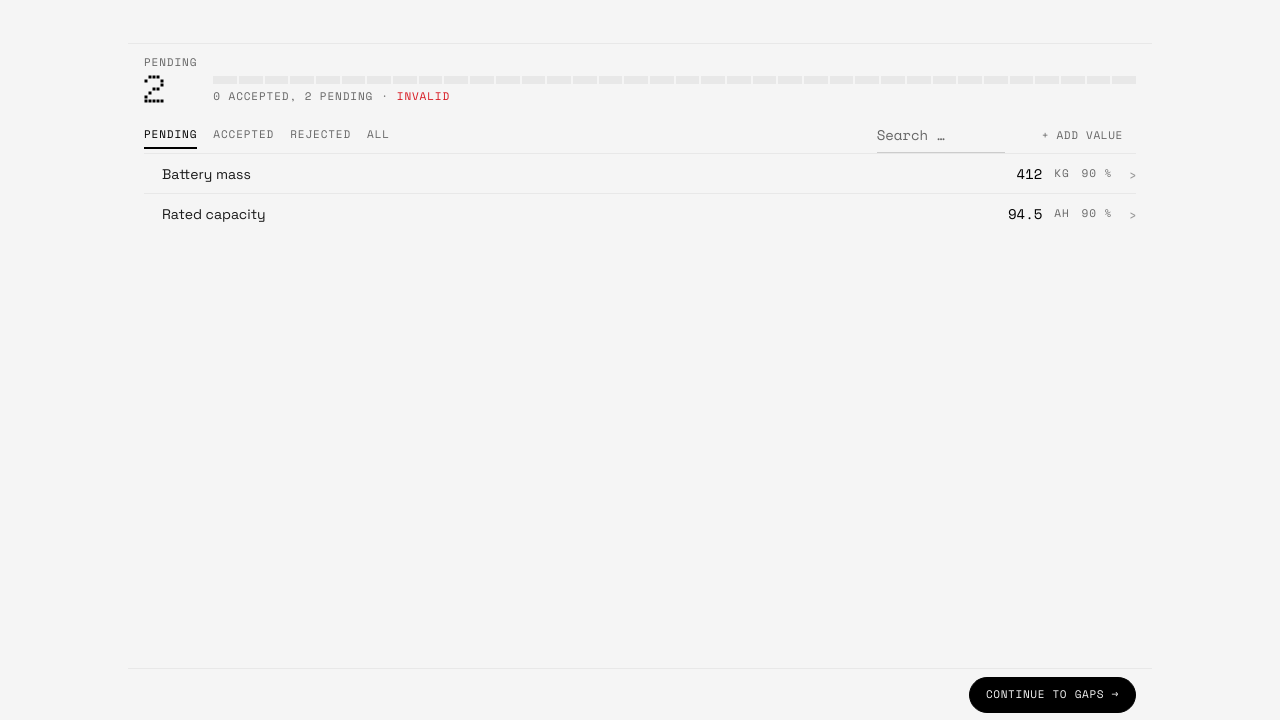
it: ReviewView › resets candidate edits when another attribute uses the same fact
Click the button with test id "group" at coordinates (206, 174), box [144,153,1136,193]
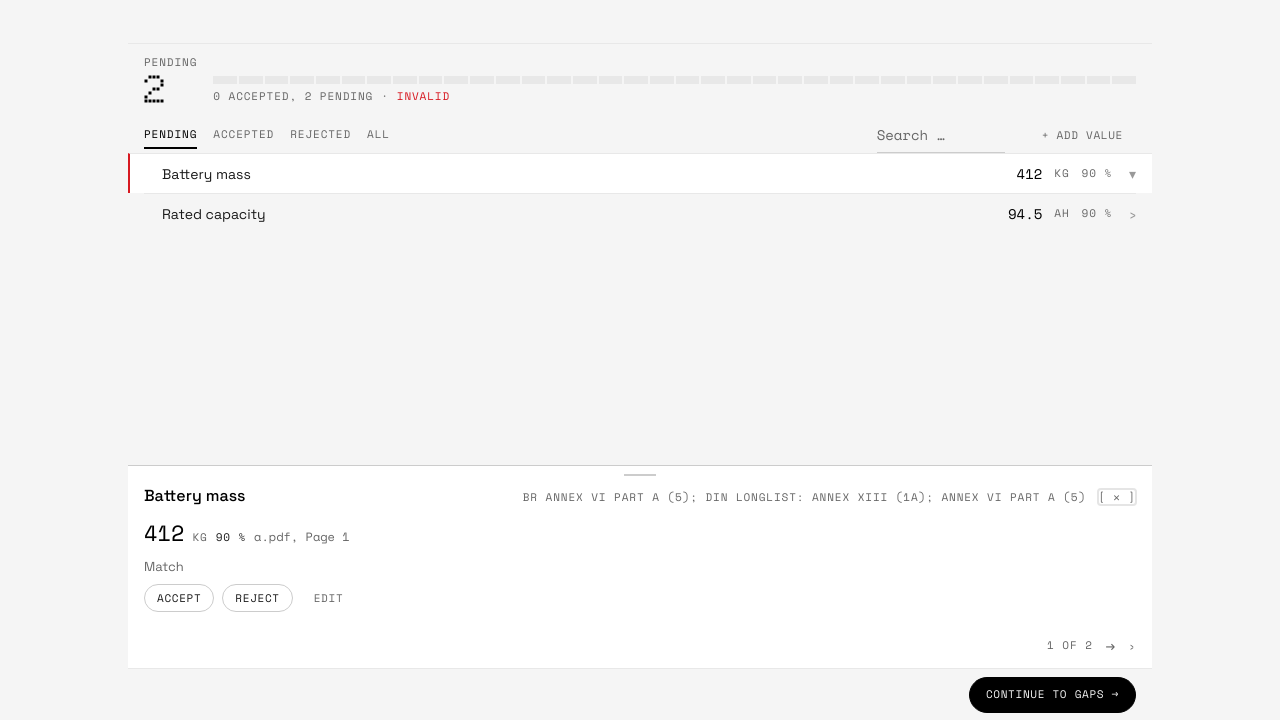
Click the button with test id "edit" at coordinates (328, 598), box [301,584,356,612]
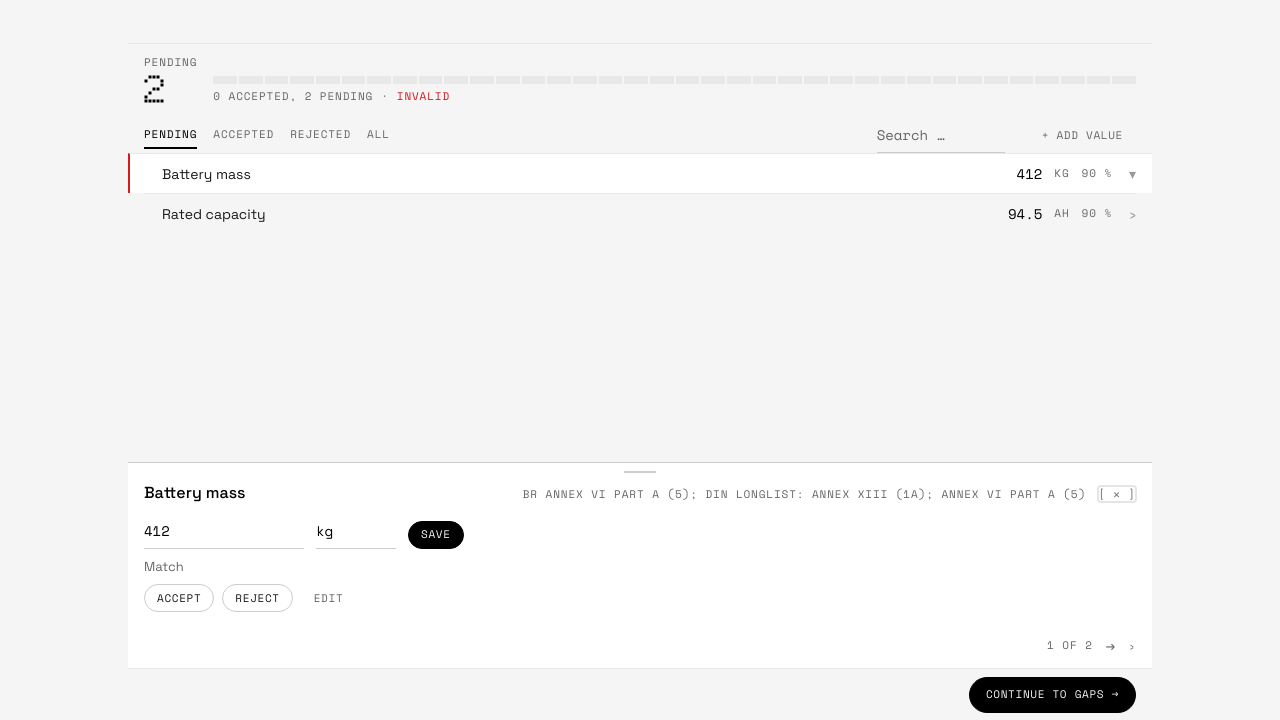
Replace the text in the field with test id "edit-value" with "999" at coordinates (224, 530), box [144,512,304,548]
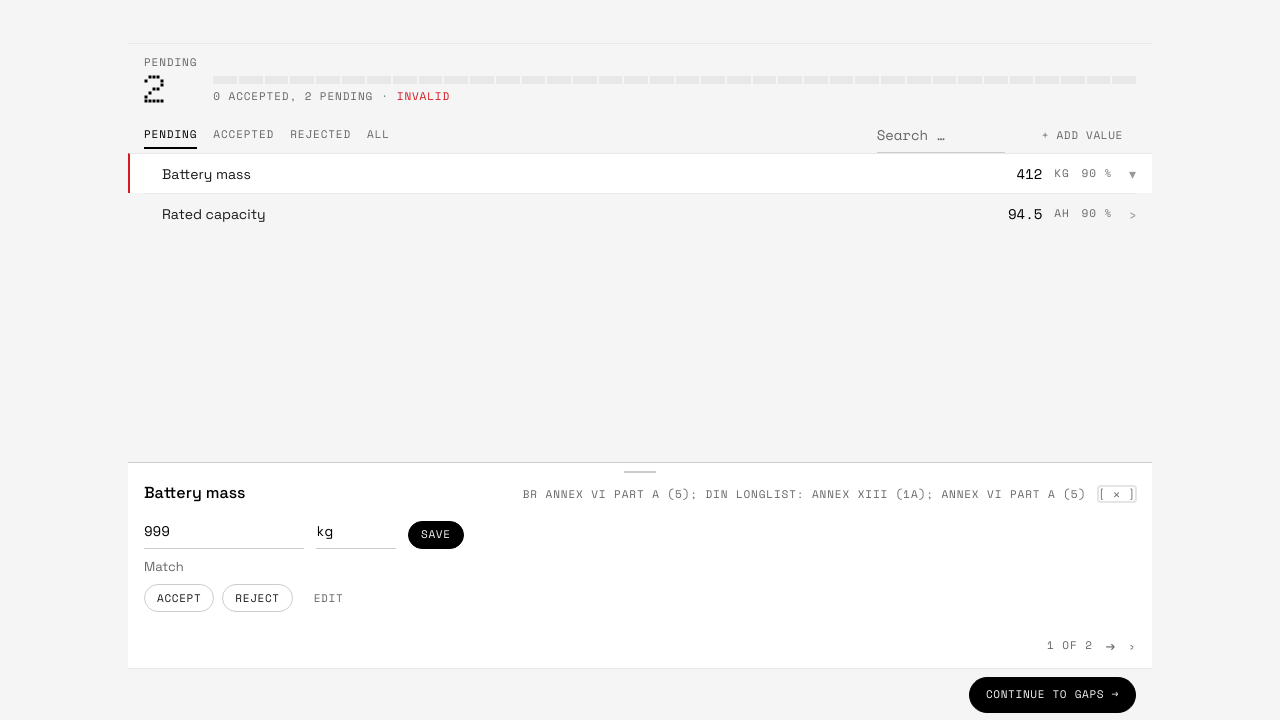
Click the button with test id "group" at coordinates (214, 214), box [144,193,1136,233]
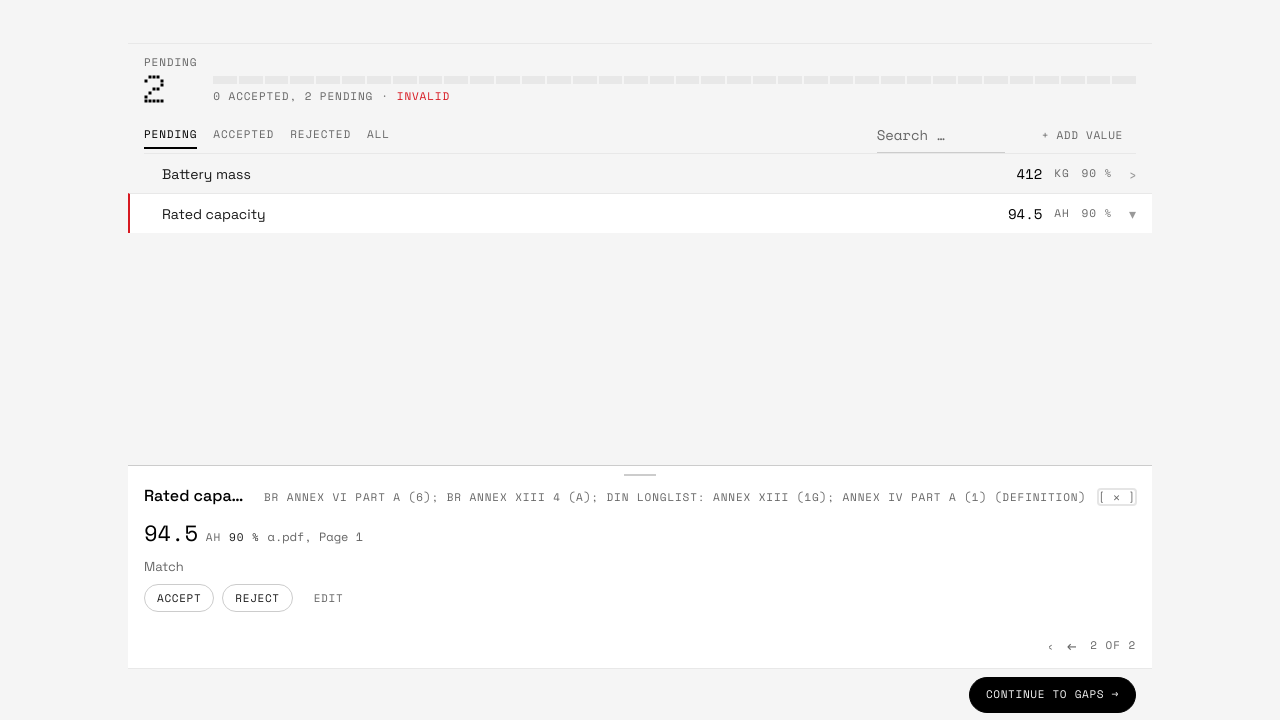
Check: the field with test id "edit-value" is gone
Click the button with test id "edit" at coordinates (328, 598), box [301,584,356,612]
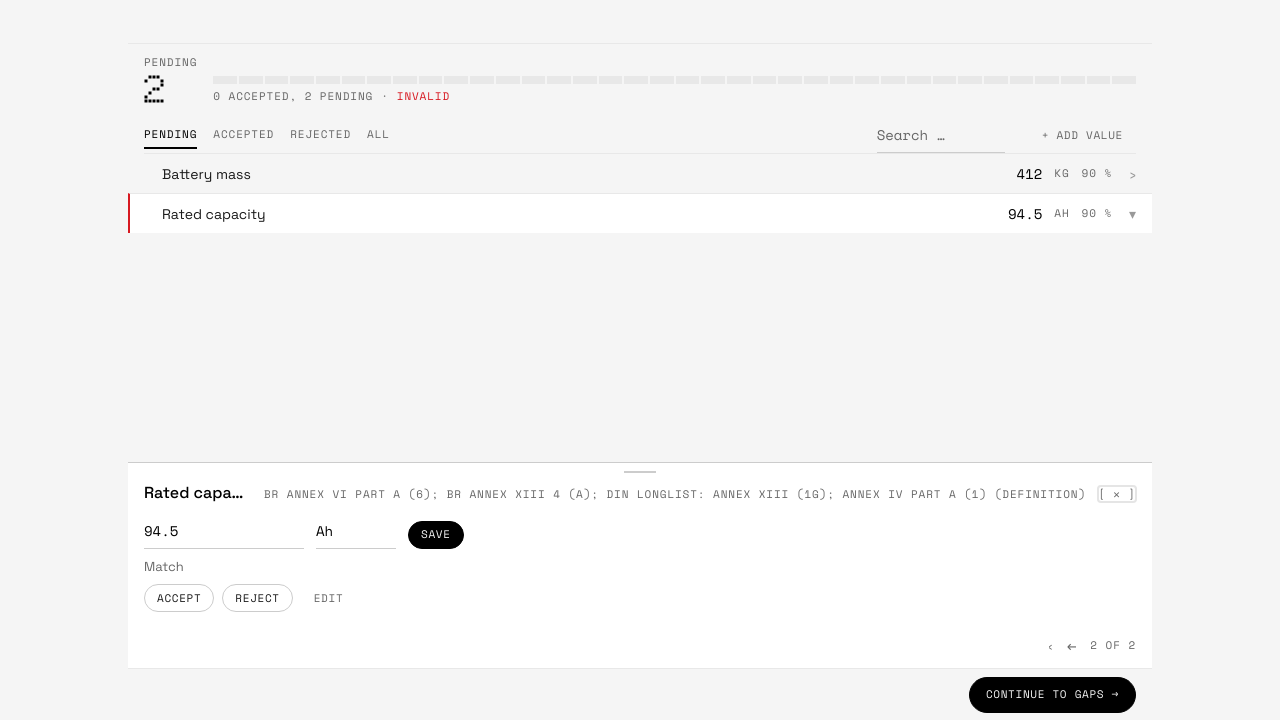
Check: the field with test id "edit-value" holds "94.5", box [144,512,304,548]
Check: the field with test id "edit-unit" holds "Ah", box [316,512,396,548]
